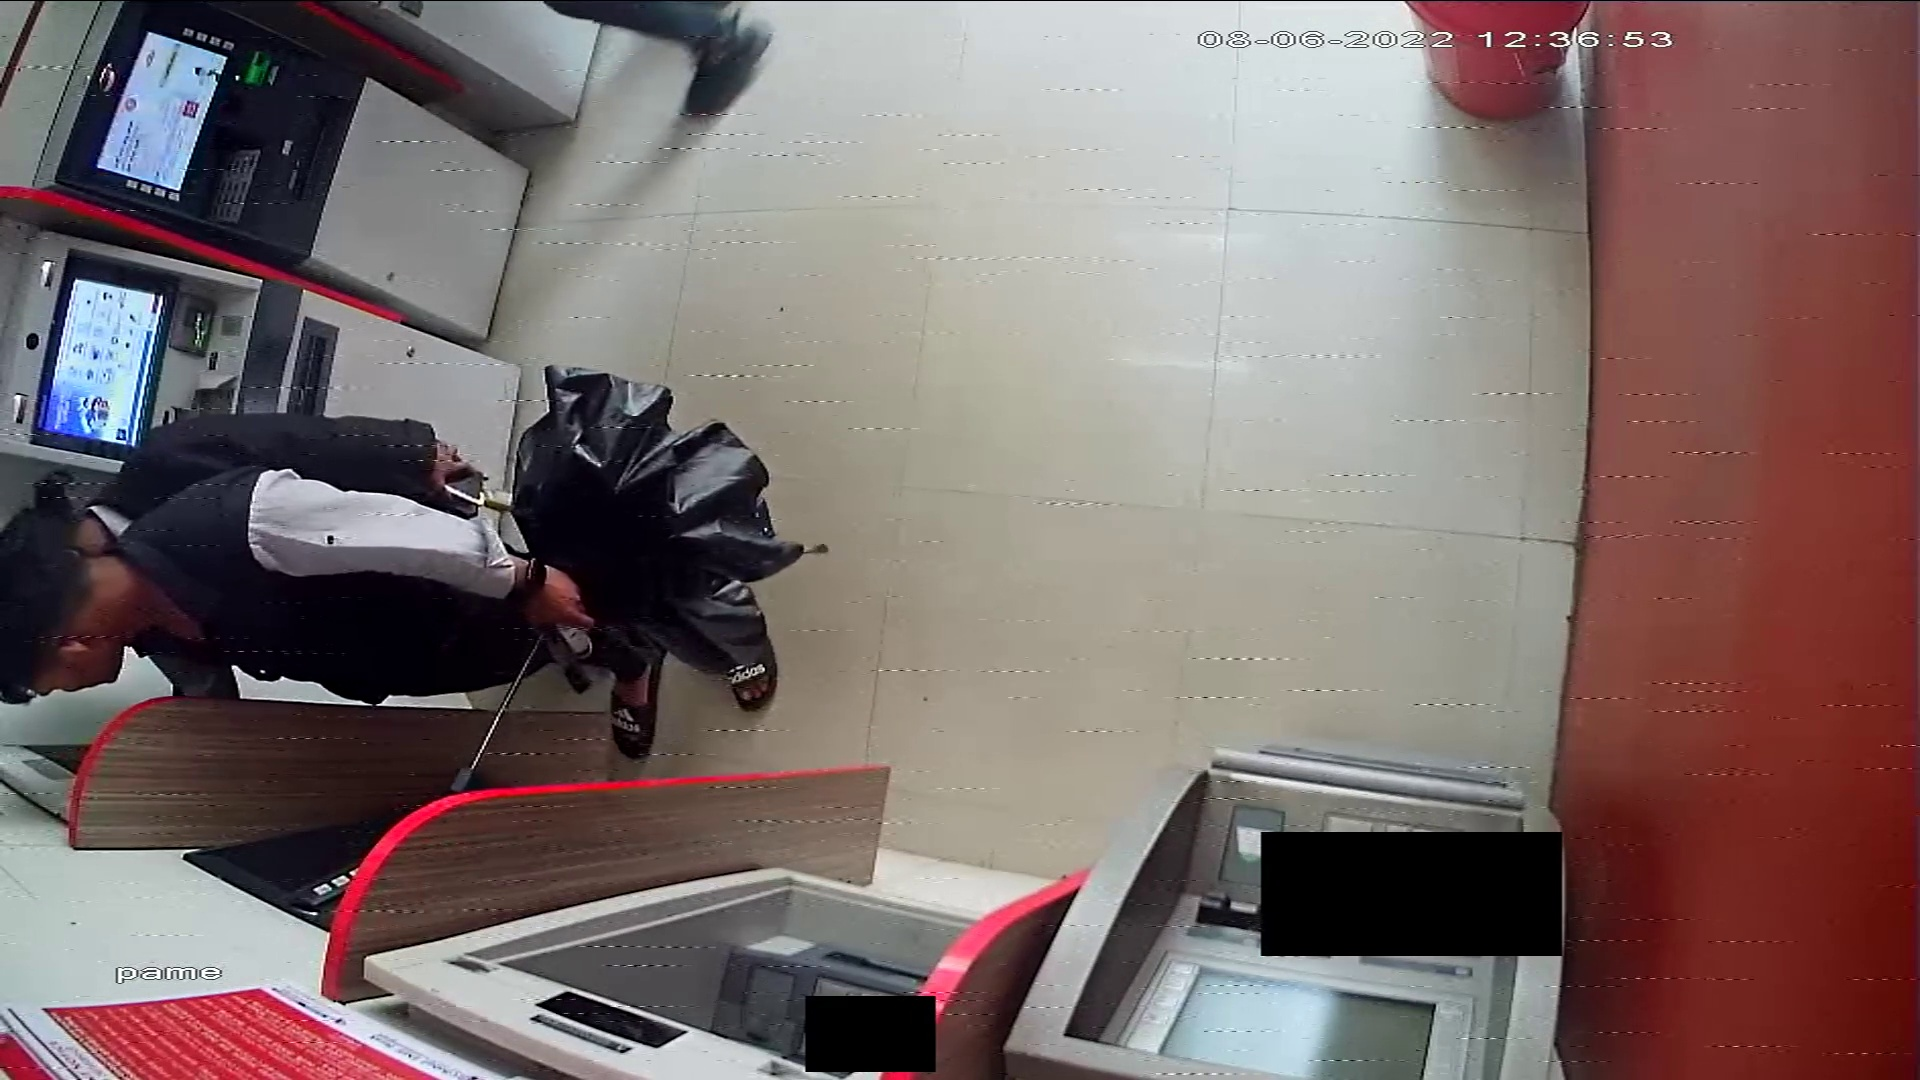person: (1, 410, 785, 759)
